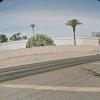Palm tree: (56, 9, 84, 48)
